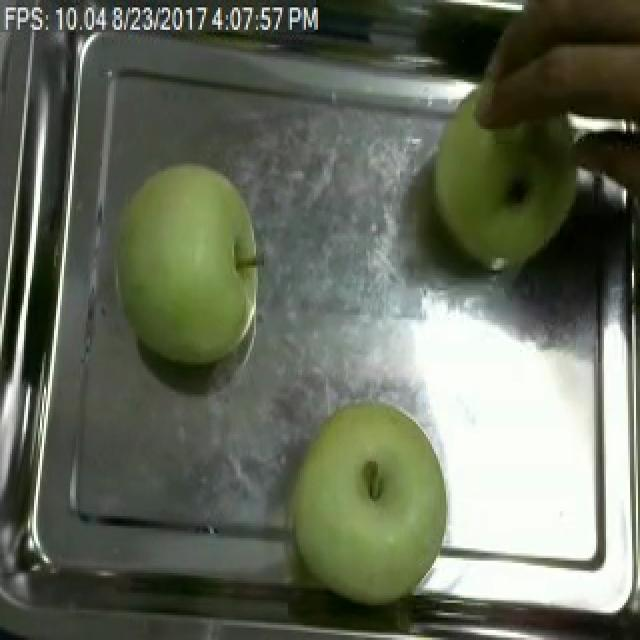50-_ripeness: (279, 388, 461, 616), (107, 165, 284, 374)
